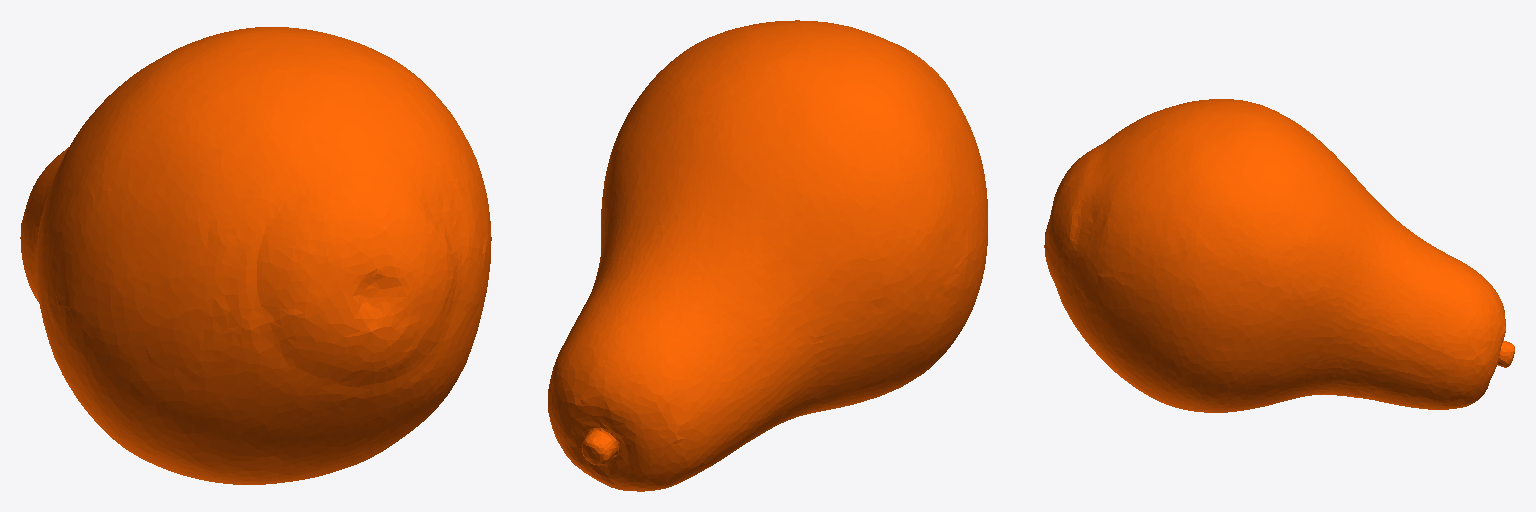
URDF robot description (016_pear):
<?xml version="1.0" ?>
<robot name="016_pear">
   <material name="obj_color">
      <color rgba="1.0 0.423529411765 0.0392156862745 1.0"/>
   </material>
   <link name="top">
      <inertial>
         <origin rpy="0.0001513296685475179 0.0002510469759593125 0.0002561942322498254" xyz="-0.0009792629656403692 -0.003778134068846407 -0.003597290322860022"/>
         <mass value="0.3767473315738202"/>
         <inertia ixx="0.0002530343290161648" ixy="-6.86126326652435e-06" ixz="-2.850878000011967e-07" iyy="0.000163231727889038" iyz="3.227868157325682e-05" izz="0.0002423048198514531"/>
      </inertial>
      <visual>
         <origin rpy="0 0 0" xyz="0 0 0"/>
         <geometry>
            <mesh filename="top_watertight_tiny.stl" scale="1 1 1"/>
         </geometry>
         <material name="obj_color"/>
      </visual>
      <collision>
         <origin rpy="0 0 0" xyz="0 0 0"/>
         <geometry>
            <mesh filename="top_watertight_tiny.obj" scale="1 1 1"/>
         </geometry>
      </collision>
   </link>
   <link name="bottom">
      <inertial>
         <origin rpy="1.633333333199431e-08 1.633333333199431e-08 1.633333333362855e-08" xyz="0.3464080000000008 0.3464080000000008 0.3464080000000008"/>
         <mass value="0.0009800000000000017"/>
         <inertia ixx="1.633333333253906e-08" ixy="5.447480642029219e-19" ixz="5.447480642029219e-19" iyy="1.633333333253906e-08" iyz="5.447480642029219e-19" izz="1.633333333253906e-08"/>
      </inertial>
      <visual>
         <origin rpy="0 0 0" xyz="0 0 0"/>
         <geometry>
            <mesh filename="bottom_watertight_tiny.stl" scale="1 1 1"/>
         </geometry>
         <material name="obj_color"/>
      </visual>
   </link>
   <joint name="rotation" type="revolute">
      <origin xyz="0 0 0"/>
      <axis xyz="0 0 -1"/>
      <parent link="bottom"/>
      <child link="top"/>
      <dynamics damping="1.0" friction="1.0"/>
      <limit effort="0.1" velocity="0.1" lower="0" upper="0.001"/>
   </joint>
</robot>

--- What the picture shows (computed from the rendered views, not written in the file) ---
The picture shows the robot from 3 angles, left to right: view 1: azimuth 30°, elevation 25°; view 2: azimuth 150°, elevation 25°; view 3: azimuth 270°, elevation 25°; orthographic projection.
Robot: 016_pear — 2 links, 1 joints (1 revolute); root link bottom; default pose: all joints at 0.
Links seen in each view (by area): view 1: top; view 2: top; view 3: top.
Link boxes in pixels (<box>): top: <box>20,27,491,484</box>; top: <box>548,20,987,491</box>; top: <box>1044,99,1514,412</box>.
Bounding box of the posed robot: 0.0665 × 0.1005 × 0.0657 m (x, y, z).
Meshes: 2 distinct files referenced, 1 mesh visuals loaded (1 binary STL); not drawn: 1 (reference not matched to a file when rendering).
